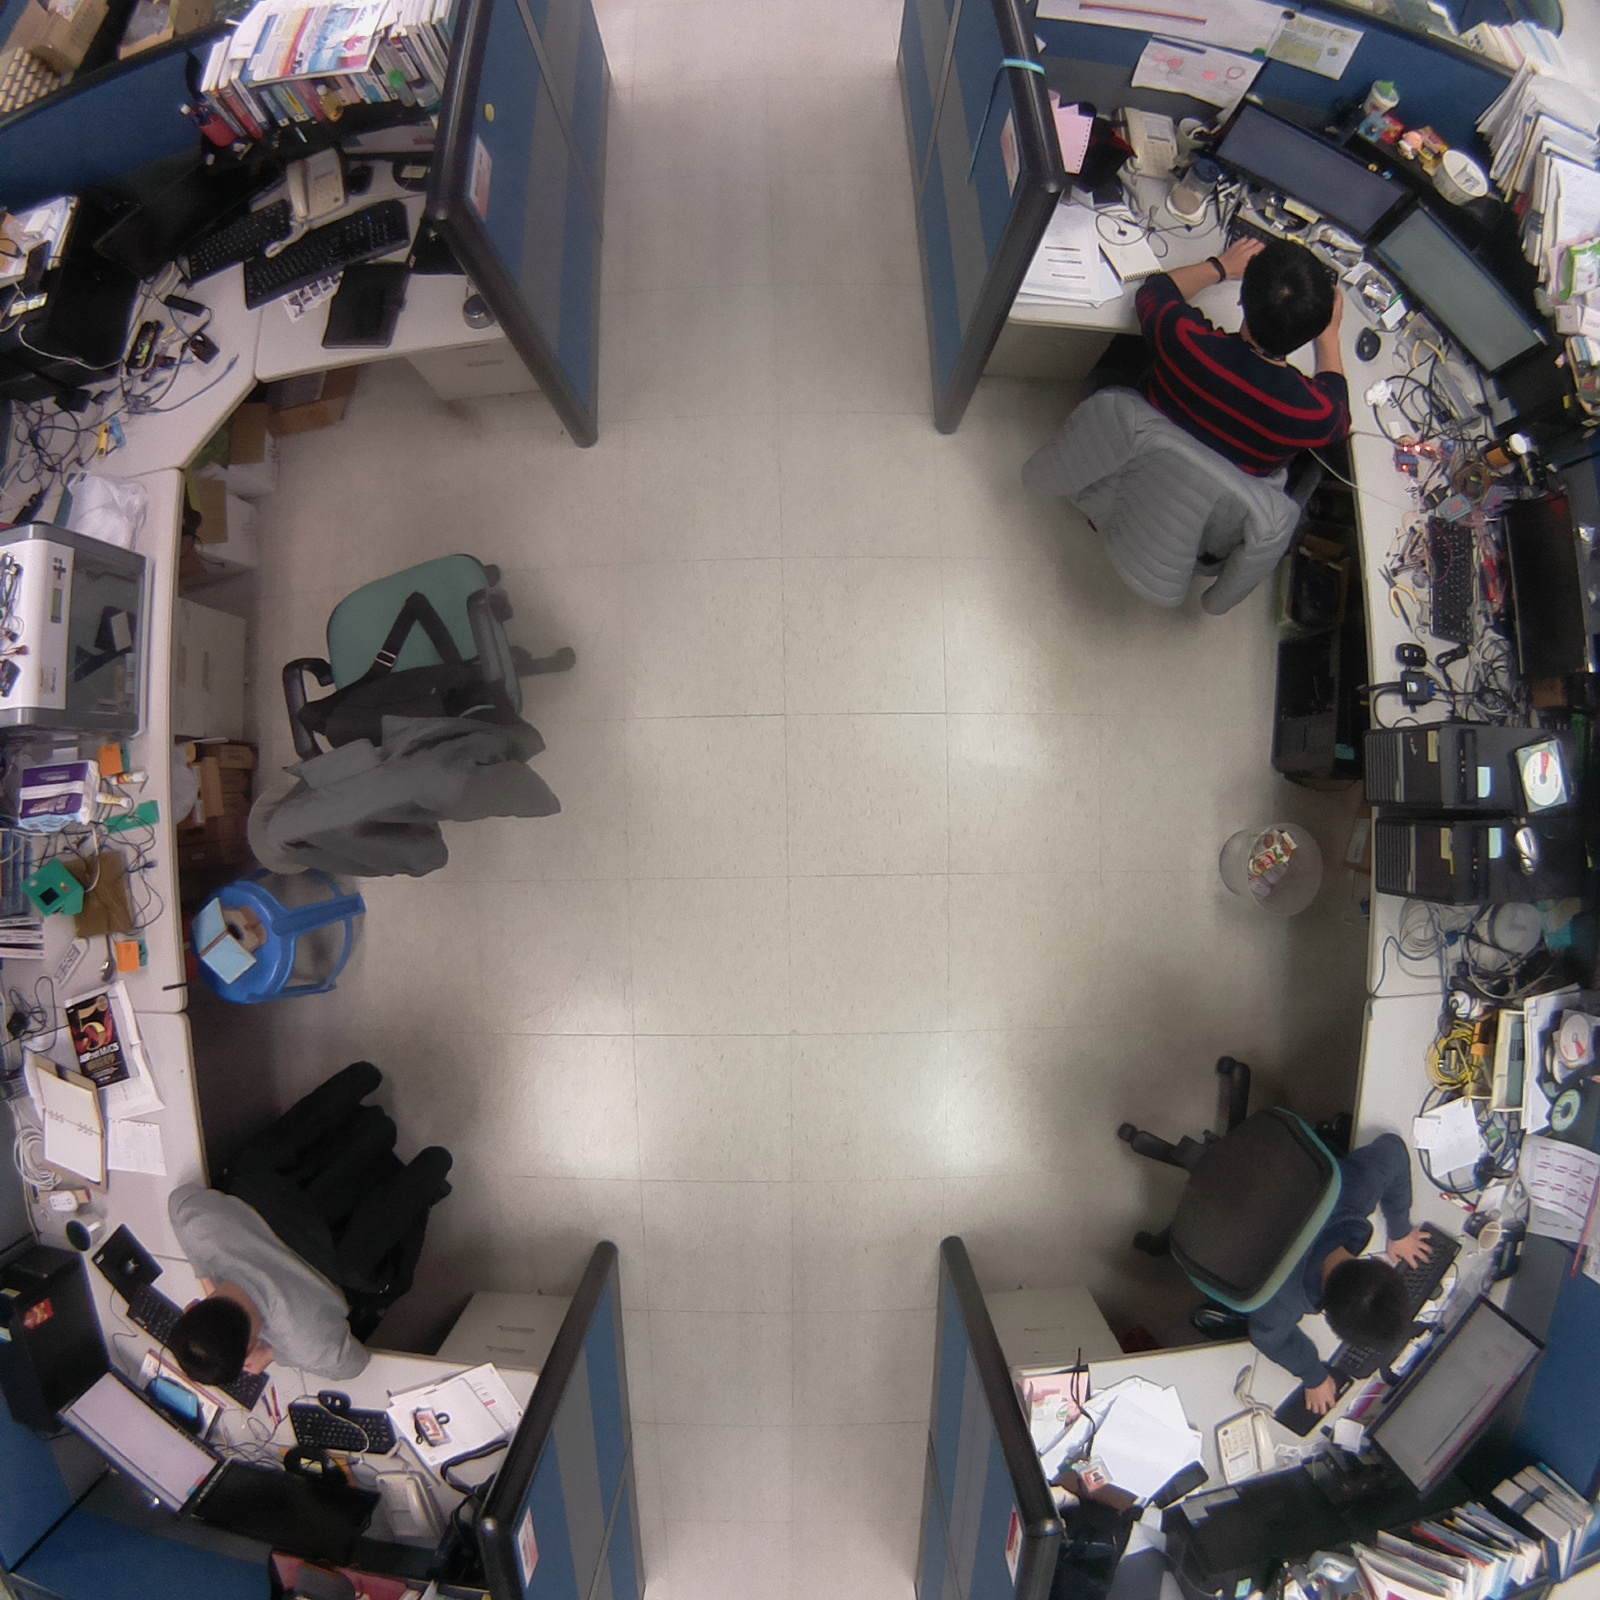chair: (234, 530, 607, 900)
sitting: (1012, 215, 1379, 637), (1097, 1040, 1452, 1433), (141, 1040, 466, 1407)
